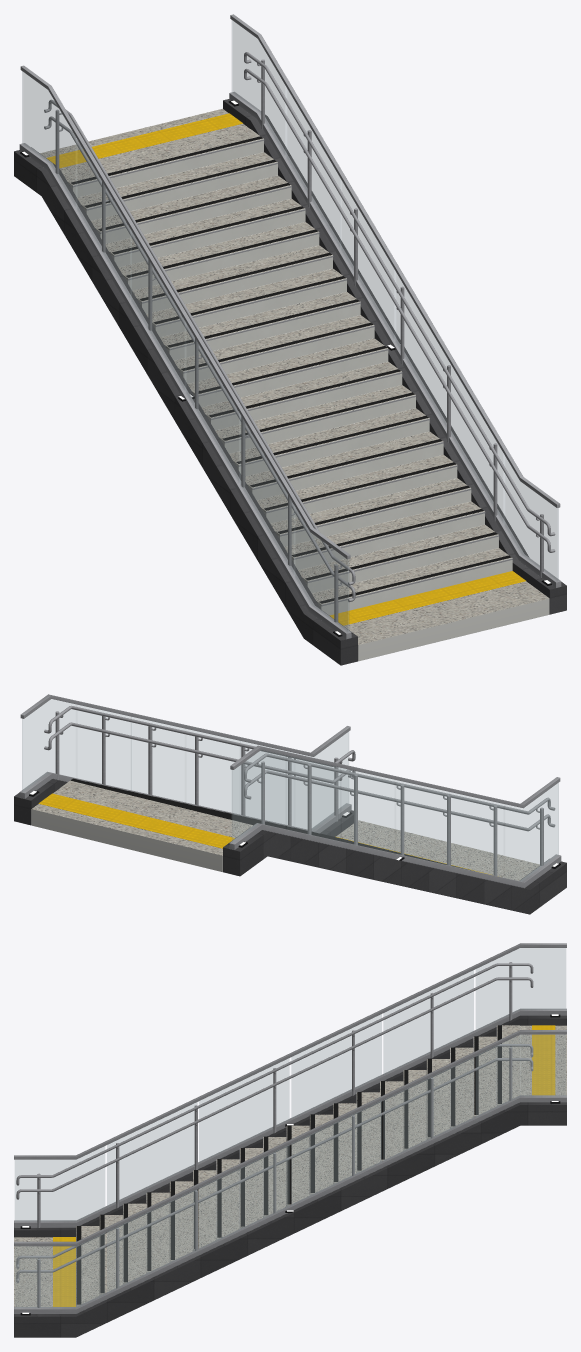
The model's file is gteki_stairs_straight_w2400_r3000.glb.
The picture shows the model from 3 angles, top to bottom: view 1: azimuth 30°, elevation 25°; view 2: azimuth 150°, elevation 25°; view 3: azimuth 270°, elevation 25°; orthographic projection. The views are drawn at different scales.
Parts seen in each view (by area): view 1: VIS_stair_structure, VIS_balustrades, VIS_treads, VIS_stringers, VIS_nosings, VIS_guard_shoes, VIS_landings, VIS_handrails, VIS_guard_caps, VIS_tactile, VIS_rail_supports; view 2: VIS_balustrades, VIS_stringers, VIS_landings, VIS_handrails, VIS_rail_supports, VIS_guard_shoes, VIS_guard_caps, VIS_tactile, VIS_treads, VIS_nosings; view 3: VIS_balustrades, VIS_treads, VIS_stringers, VIS_guard_shoes, VIS_nosings, VIS_handrails, VIS_guard_caps, VIS_landings, VIS_rail_supports, VIS_tactile, VIS_stair_structure.
Boxes of the visible parts, bbox=[...] form: VIS_stair_structure: bbox=[68, 139, 512, 615]; VIS_balustrades: bbox=[22, 20, 558, 631]; VIS_treads: bbox=[63, 129, 511, 604]; VIS_stringers: bbox=[14, 99, 566, 665]; VIS_nosings: bbox=[71, 136, 512, 606]; VIS_guard_shoes: bbox=[19, 92, 561, 639]; VIS_landings: bbox=[40, 108, 549, 661]; VIS_handrails: bbox=[44, 52, 555, 602]; VIS_guard_caps: bbox=[20, 14, 560, 559]; VIS_tactile: bbox=[47, 113, 525, 625]; VIS_rail_supports: bbox=[55, 59, 543, 622]; VIS_balustrades: bbox=[22, 699, 558, 881]; VIS_stringers: bbox=[14, 779, 566, 914]; VIS_landings: bbox=[31, 789, 539, 880]; VIS_handrails: bbox=[44, 705, 555, 831]; VIS_rail_supports: bbox=[55, 711, 543, 875]; VIS_guard_shoes: bbox=[19, 772, 561, 888]; VIS_guard_caps: bbox=[20, 694, 560, 808]; VIS_tactile: bbox=[38, 793, 491, 874]; VIS_treads: bbox=[59, 780, 252, 832]; VIS_nosings: bbox=[70, 778, 470, 870]; VIS_balustrades: bbox=[15, 948, 565, 1307]; VIS_treads: bbox=[76, 1025, 519, 1305]; VIS_stringers: bbox=[14, 1015, 566, 1337]; VIS_guard_shoes: bbox=[14, 1008, 566, 1313]; VIS_nosings: bbox=[76, 1025, 501, 1305]; VIS_handrails: bbox=[16, 963, 533, 1282]; VIS_guard_caps: bbox=[14, 943, 566, 1246]; VIS_landings: bbox=[14, 1025, 566, 1306]; VIS_rail_supports: bbox=[37, 962, 512, 1307]; VIS_tactile: bbox=[53, 1025, 555, 1306]; VIS_stair_structure: bbox=[76, 1026, 520, 1306].
Size of what is drawn, in the model's own units: 2.84 by 4.3 by 7.1.
Materials: 10 (5 with a texture image).
